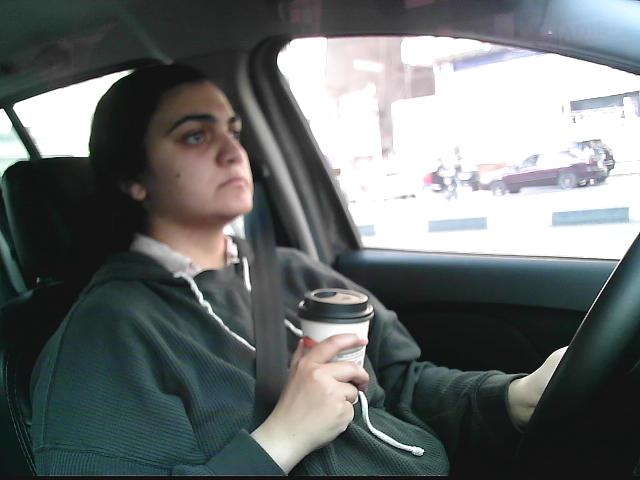Drinking: (297, 283, 374, 410)
